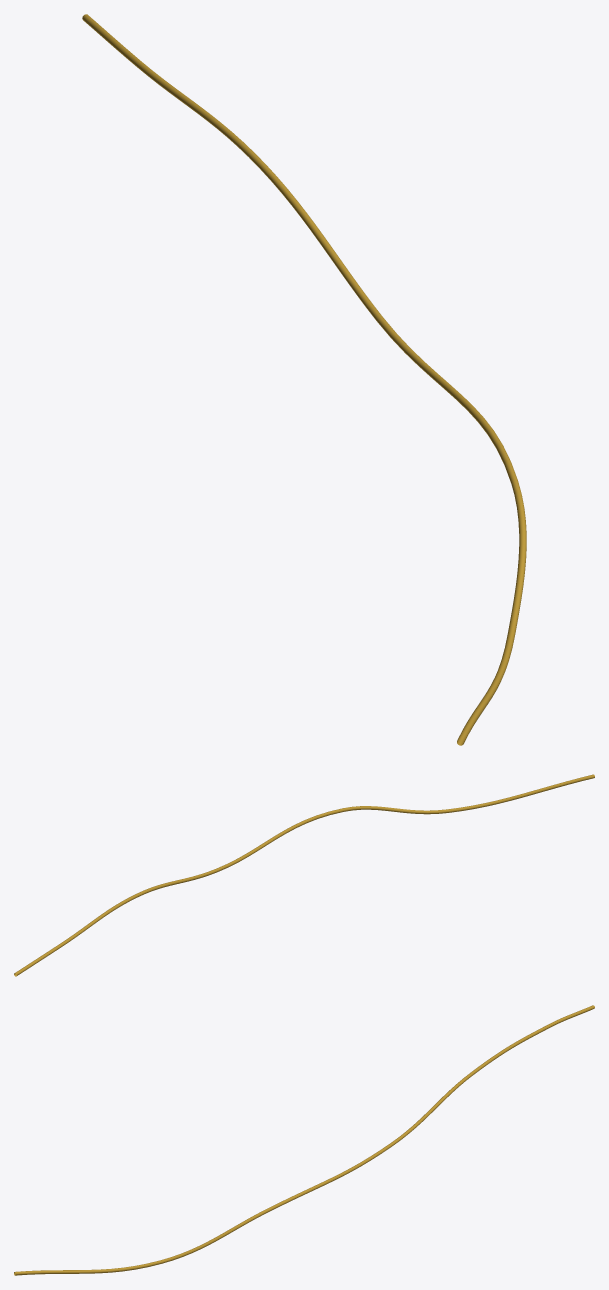
The picture shows the model from 3 angles, top to bottom: view 1: azimuth 30°, elevation 25°; view 2: azimuth 150°, elevation 25°; view 3: azimuth 330°, elevation 25°; orthographic projection. The views are drawn at different scales.
Visible parts, largest first — view 1: 左侧前臂内侧皮神经; view 2: 左侧前臂内侧皮神经; view 3: 左侧前臂内侧皮神经.
Boxes of the visible parts, x1,y1,x2,y2 form: 左侧前臂内侧皮神经: [82, 14, 526, 745]; 左侧前臂内侧皮神经: [14, 774, 594, 976]; 左侧前臂内侧皮神经: [14, 1005, 594, 1275].
Size of the model in its own units: 0.0896 by 0.0251 by 0.2999.
